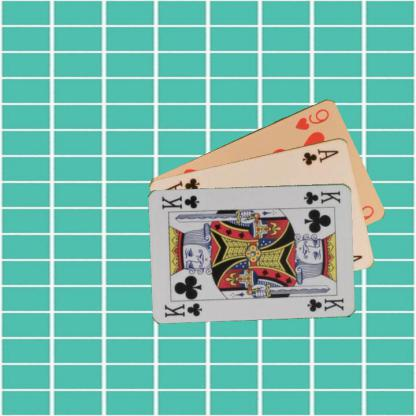9h: (292, 106, 330, 131)
Ac: (300, 146, 340, 166)
Kc: (162, 300, 204, 318), (301, 188, 342, 206)
